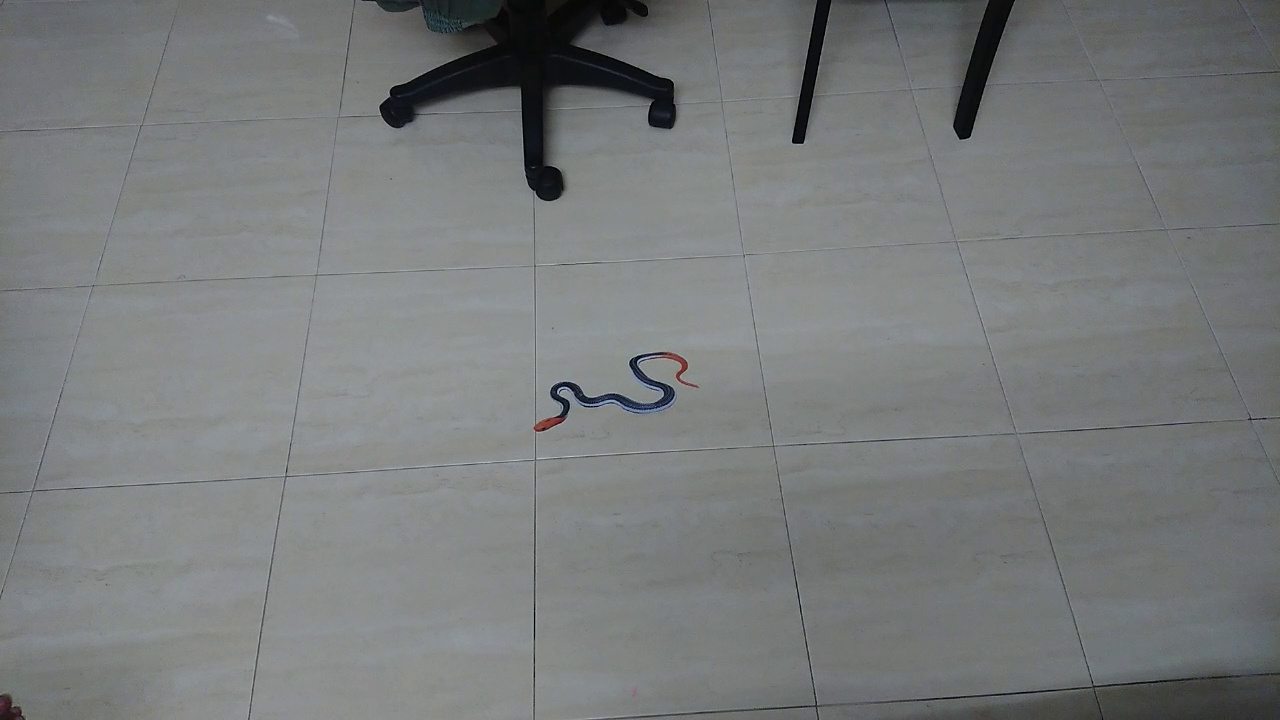snake: (524, 340, 705, 448)
